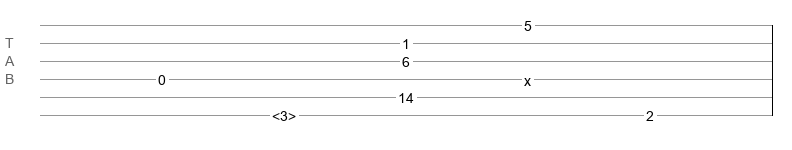0: (158, 72, 166, 82)
1: (402, 36, 410, 46)
14: (398, 90, 414, 100)
2: (646, 108, 654, 118)
5: (524, 18, 532, 28)
6: (402, 54, 410, 64)
harmonic: (272, 108, 296, 118)
x: (524, 73, 531, 81)
